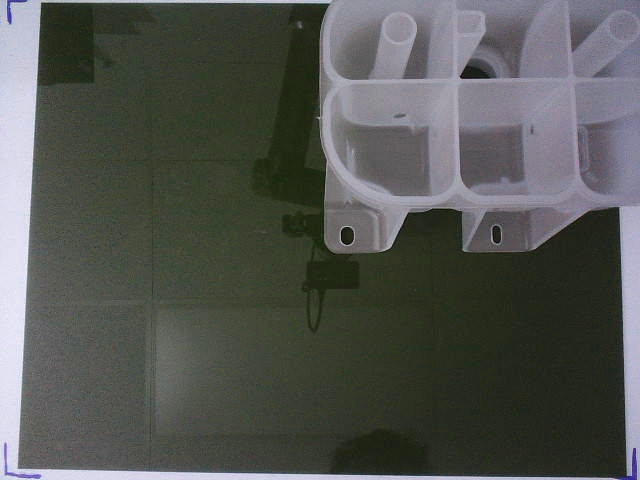reservoir_transparent_Under: (320, 1, 640, 255)
